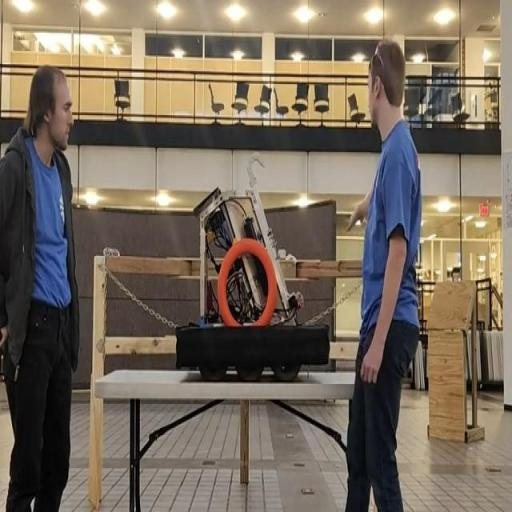robot: (167, 151, 330, 378)
